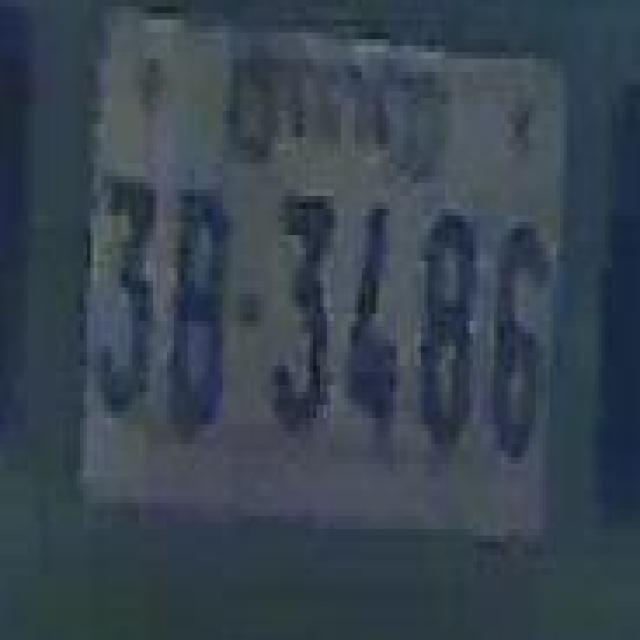Phnom_Penh: (230, 46, 450, 184)
